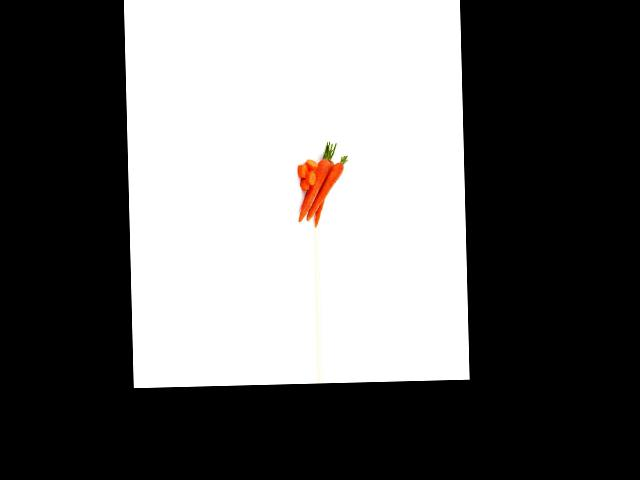carrot: (294, 155, 331, 222)
